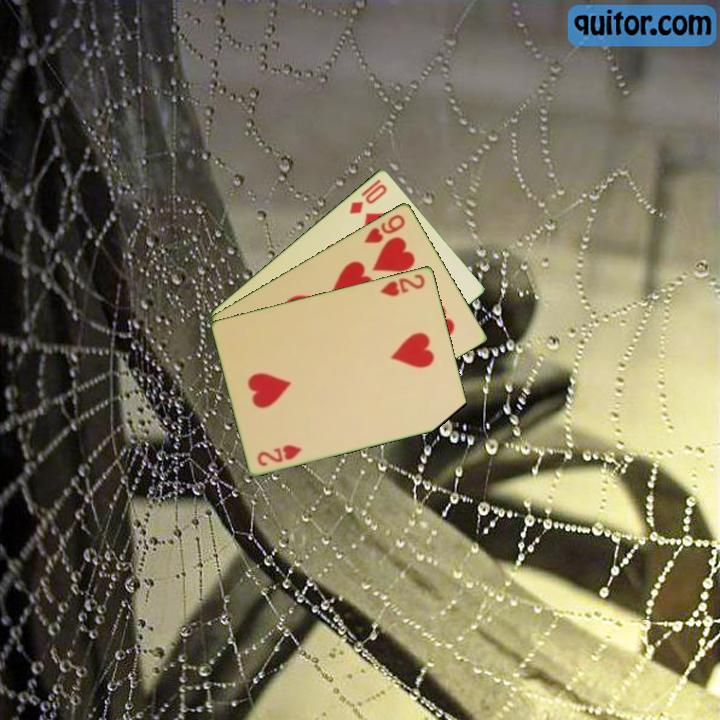10d: (346, 175, 390, 217)
2h: (377, 270, 428, 299), (254, 441, 305, 469)
9h: (361, 211, 408, 246)
